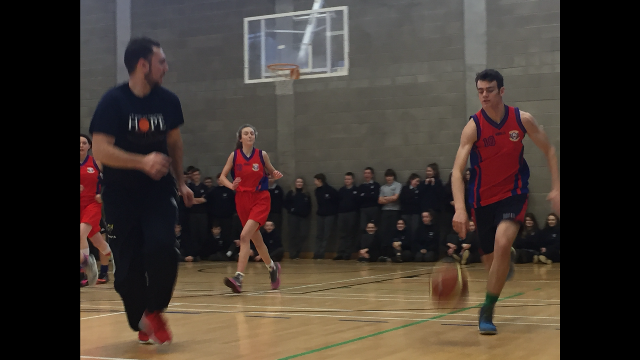ball: (430, 267, 470, 309)
basket: (266, 62, 301, 96)
player: (90, 34, 188, 346), (446, 67, 555, 334), (219, 124, 282, 292), (78, 133, 108, 293)
